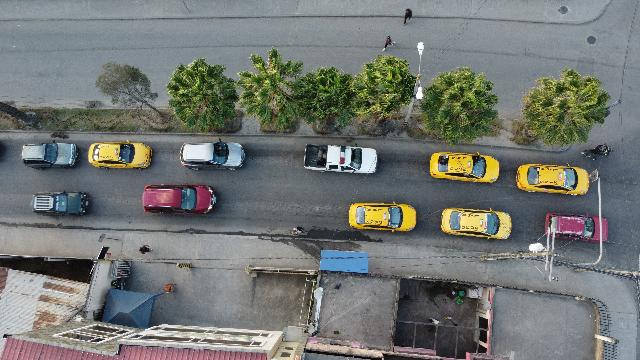Vehiculo: (516, 163, 598, 195), (441, 208, 512, 240), (429, 152, 499, 184), (142, 184, 216, 214), (304, 144, 378, 174), (349, 202, 417, 232), (544, 212, 608, 241), (88, 141, 152, 169), (180, 142, 244, 170), (30, 190, 88, 216), (21, 142, 77, 168)
